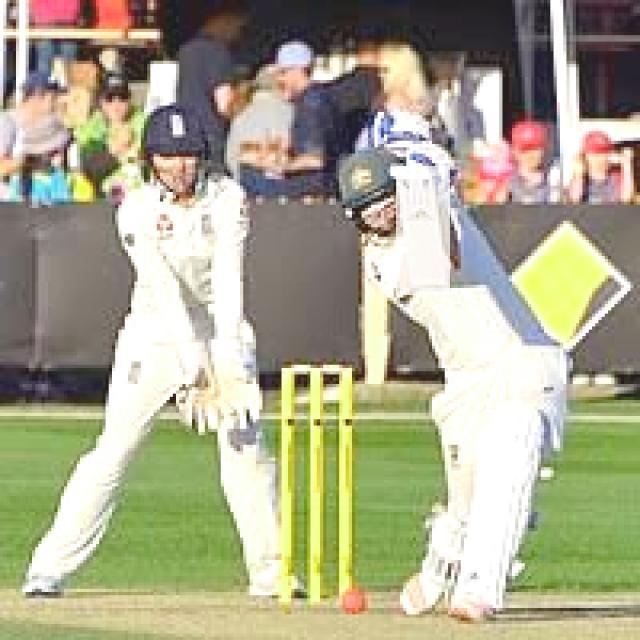bat: (387, 168, 455, 299)
toe: (404, 281, 446, 294)
